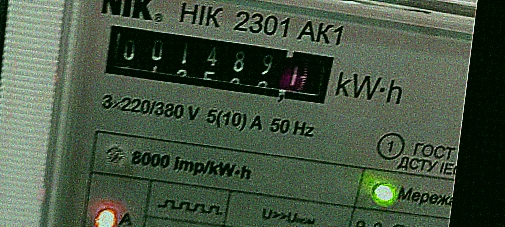0: (147, 34, 166, 61), (120, 35, 138, 62)
1: (175, 37, 193, 67), (286, 57, 301, 88)
4: (203, 41, 222, 69)
8: (228, 45, 248, 73)
9: (257, 50, 275, 77)
screen: (87, 11, 351, 119)
